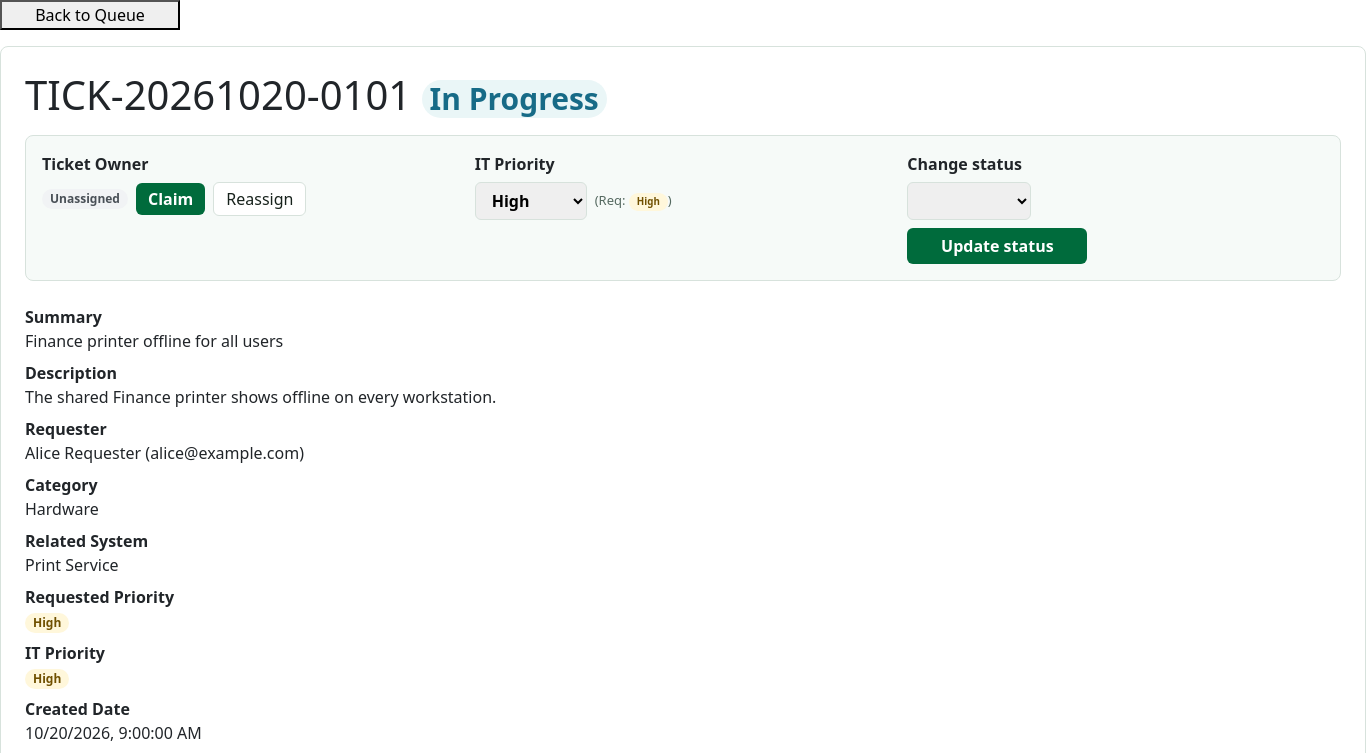
it: Ticket workflow UI (UI-11 … UI-17) › UI-12: In Progress → Cancelled asks for confirmation naming both statuses and sends nothing until confirmed
Expected: the heading "TICK-20261020-0101 In Progress" is shown, [25,67,607,122]
Select "Cancelled" in the dropdown labelled "Change status" at {"x": 969, "y": 201}, box [907,182,1031,220]
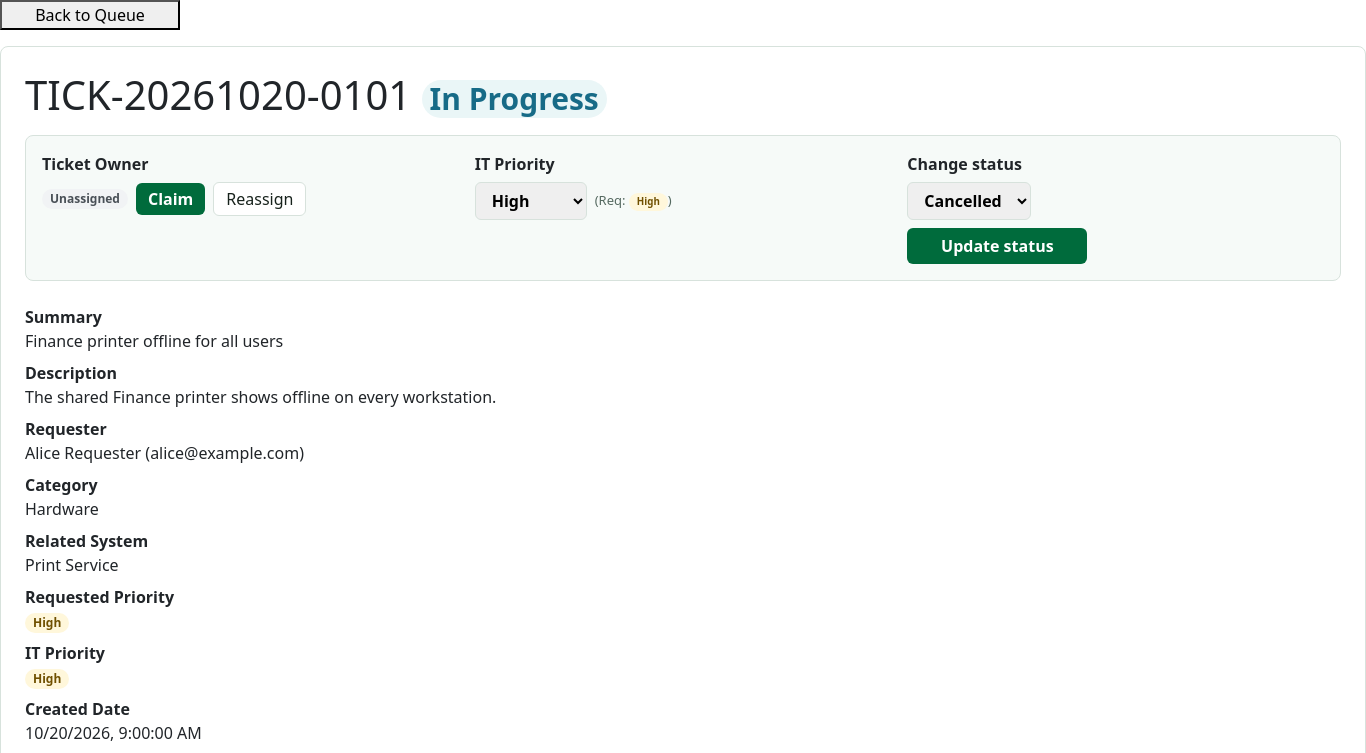
Click the button "Update status" at {"x": 997, "y": 246}, box [907,228,1087,264]
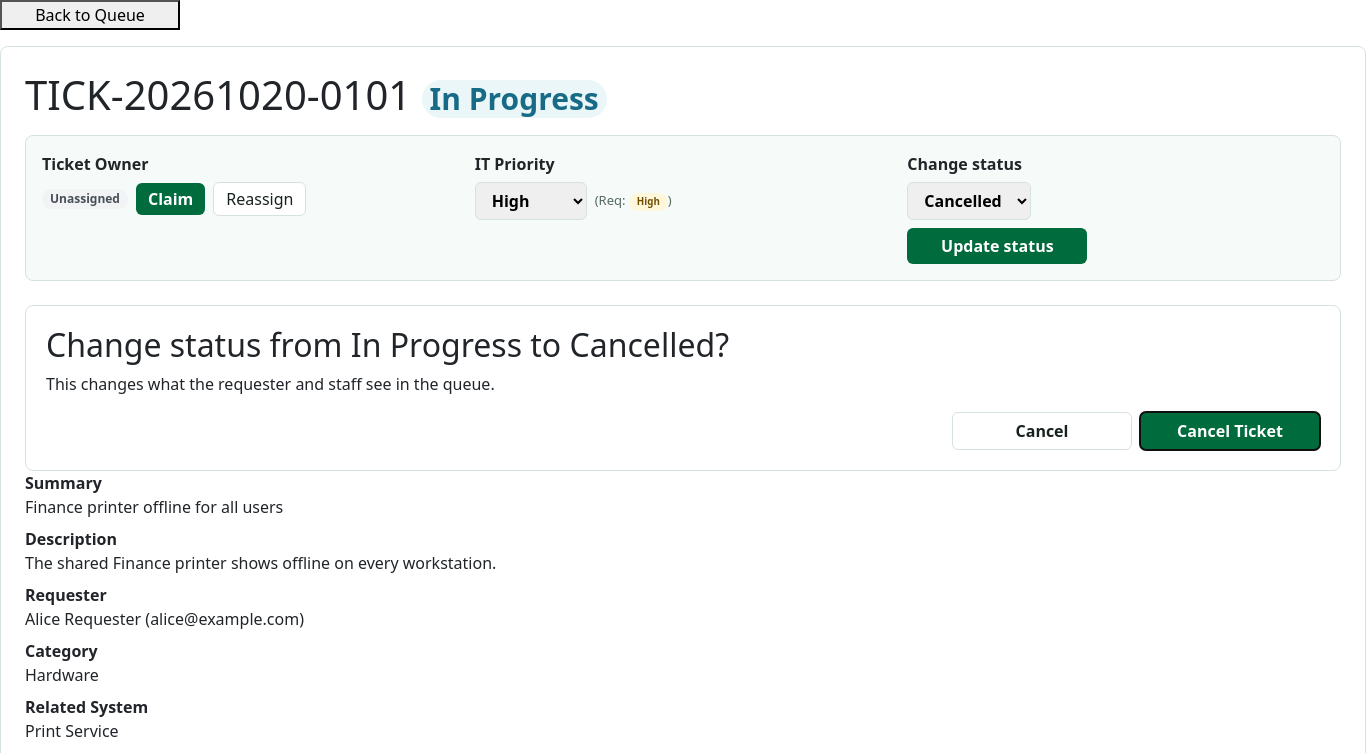
Click the button "Cancel" at {"x": 1042, "y": 431}, box [952,412,1132,450]
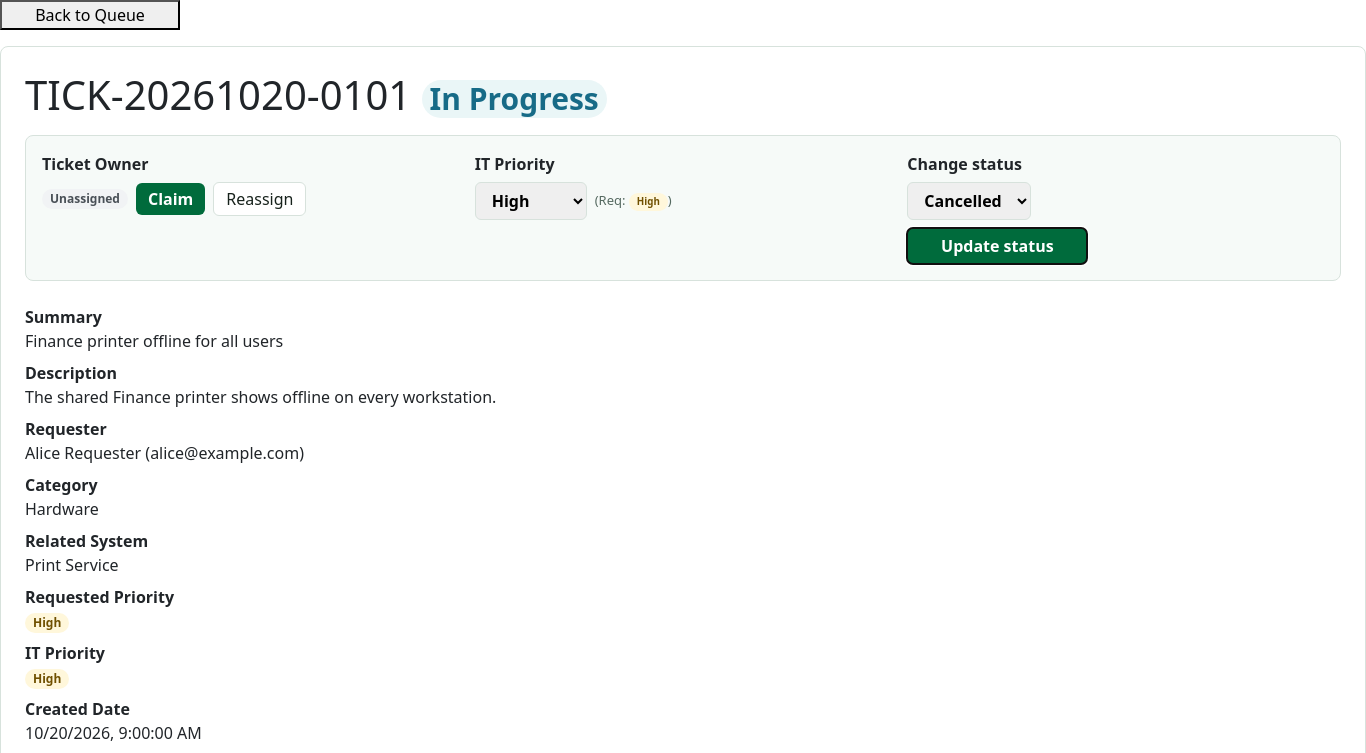
Expected: the dialog is gone
Click the button "Update status" at {"x": 997, "y": 246}, box [907,228,1087,264]
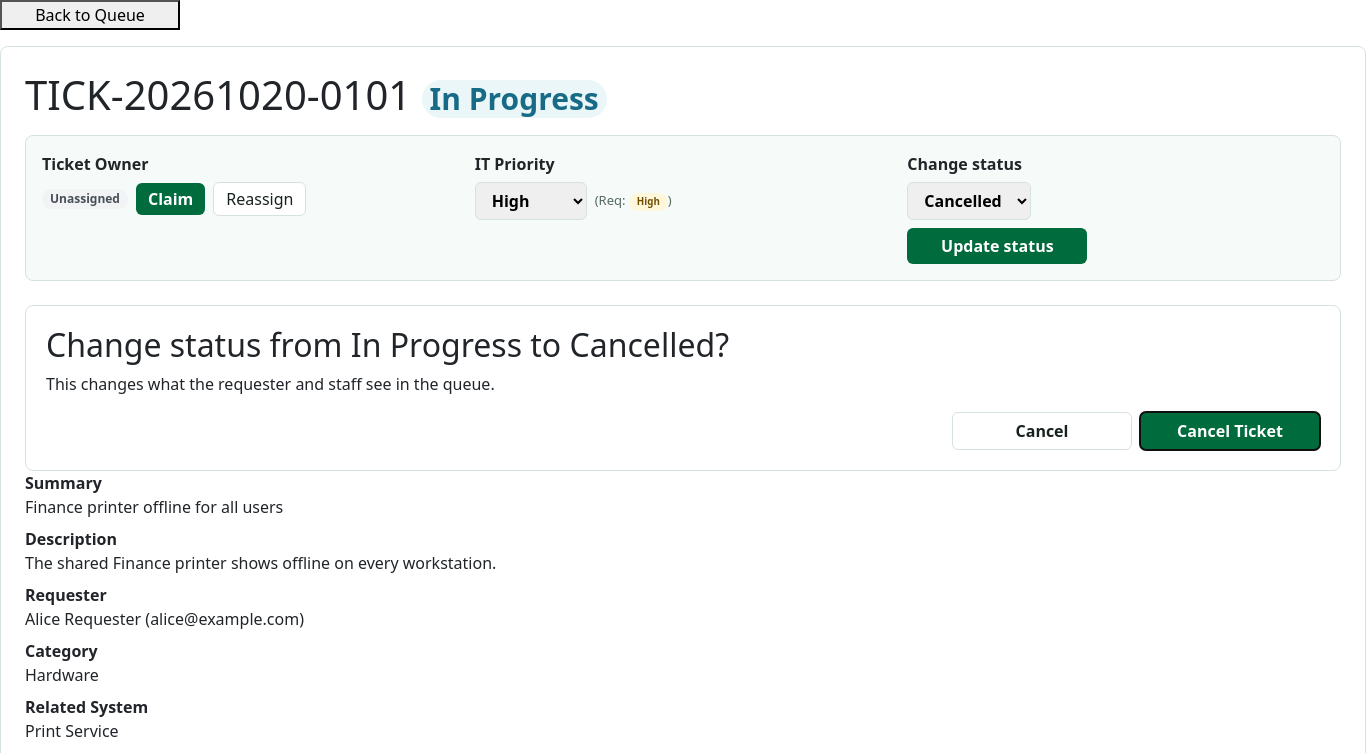
Click the button "Cancel Ticket" at {"x": 1230, "y": 431}, box [1140,412,1320,450]
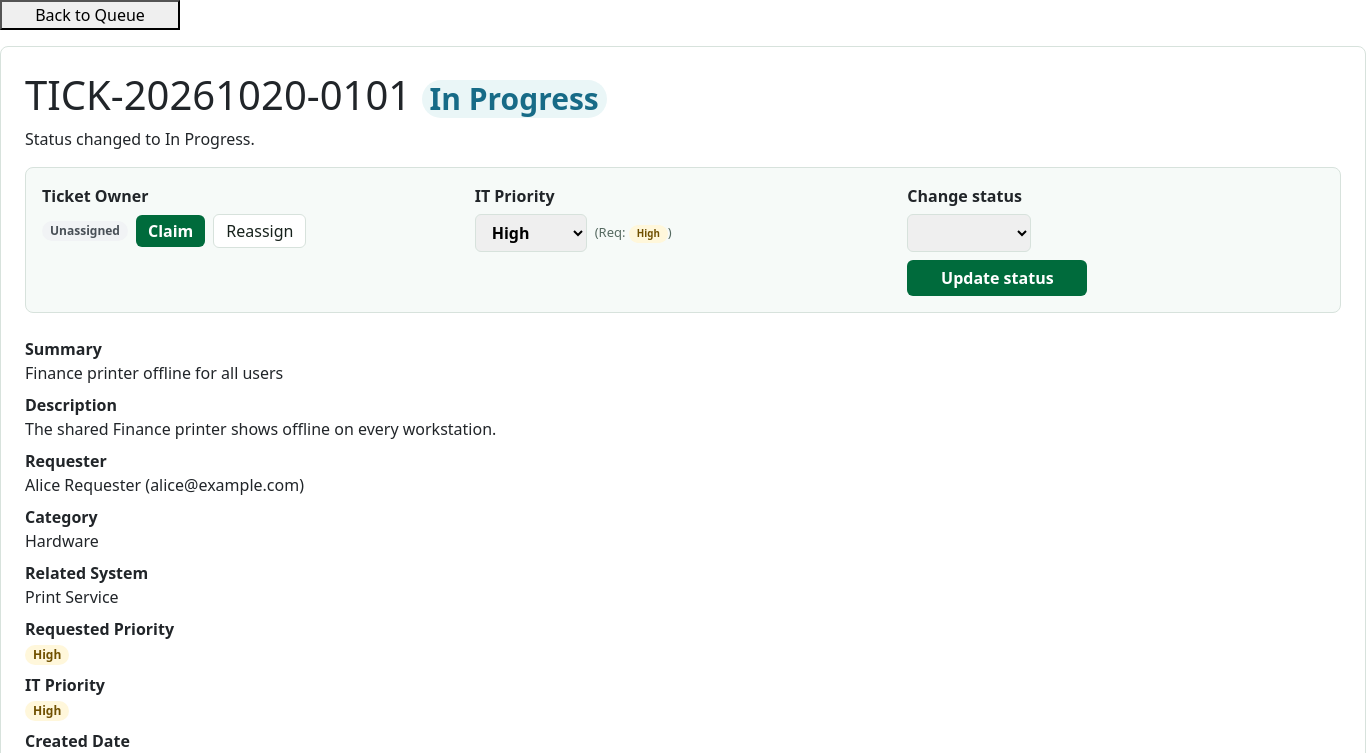
Expected: the dialog is gone
